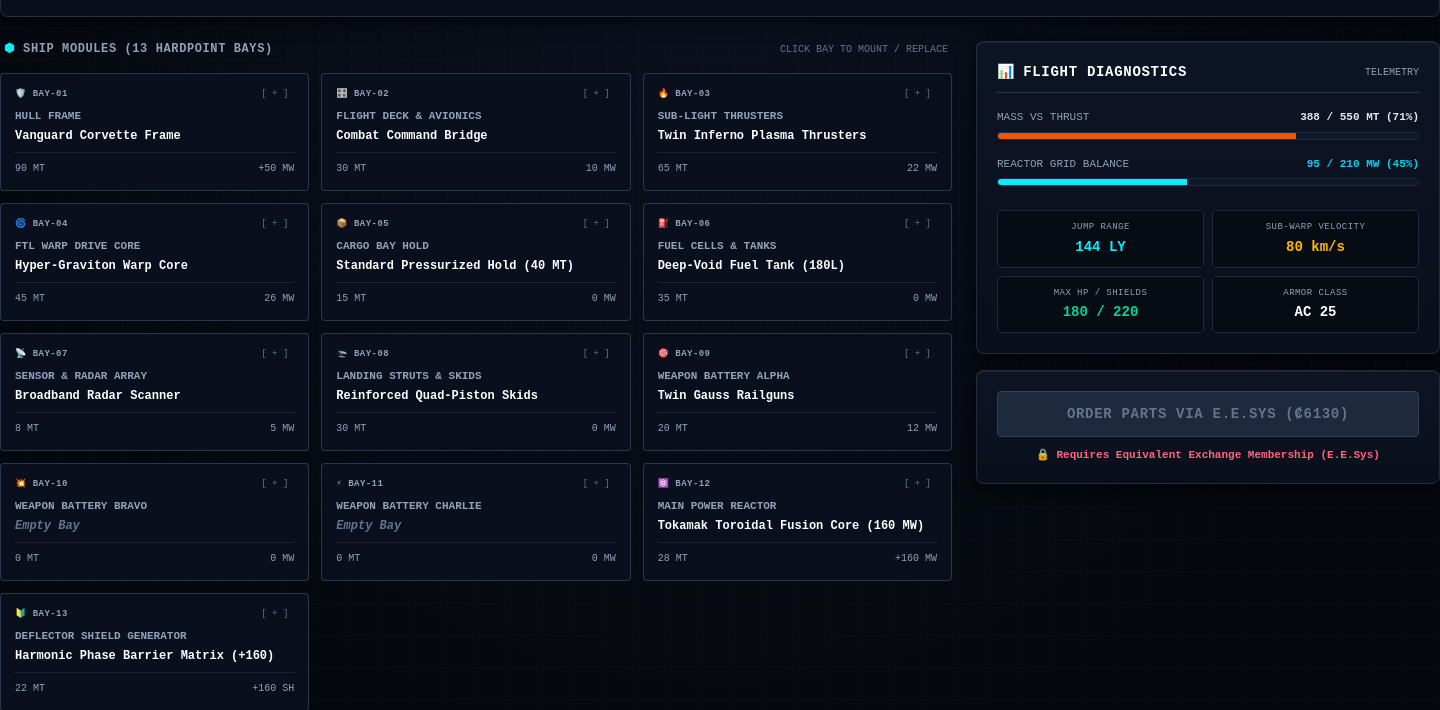
ShipBuilder Component (Cyberpunk x The Expanse Drydock UI) › renders reactor and shield generator bays and allows unmounting optional components
Check: the text "BAY-12" is shown, box [675,478,710,492]
Check: the text "Main Power Reactor" is shown, box [658,500,776,512]
// Open BAY-13 (Shield Generator)
Click the button "BAY-13": [155, 652] box [0,593,309,709]
(page scrolled)
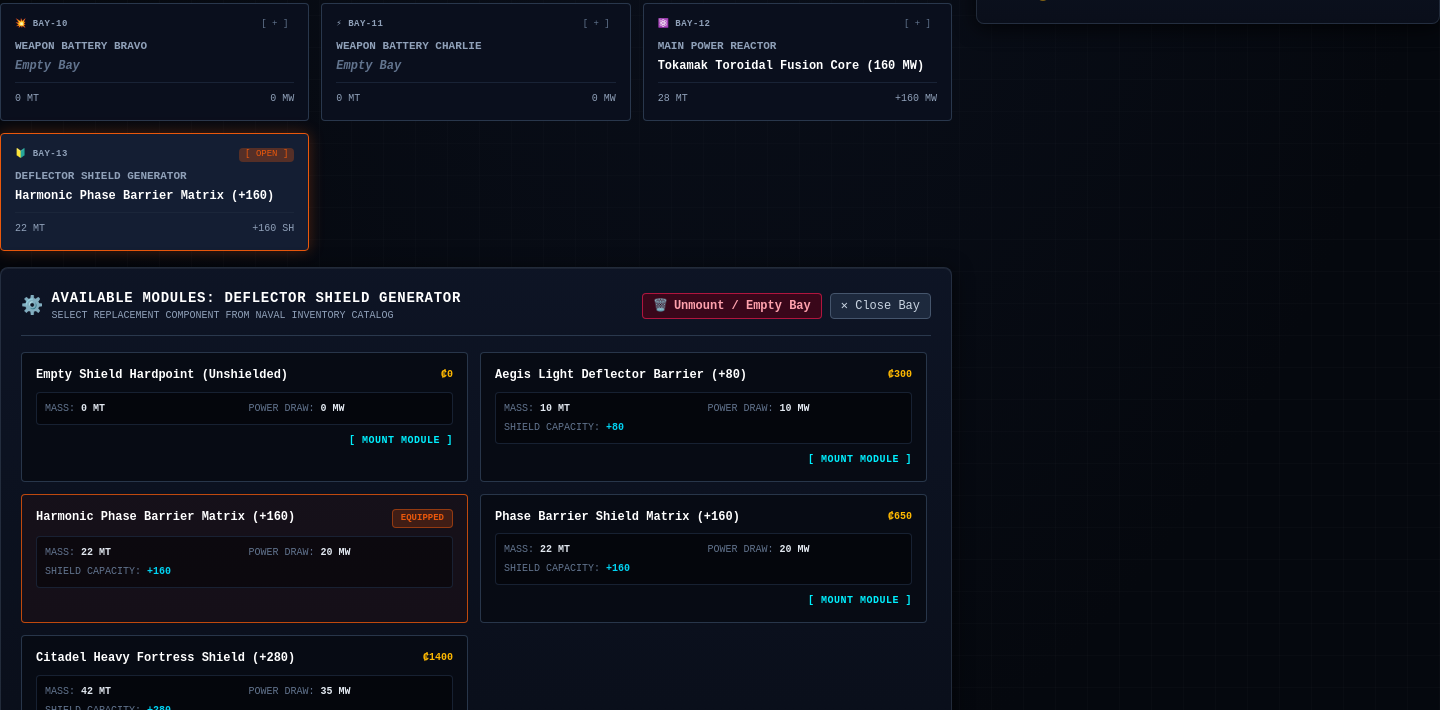
Check: the button "🗑️ Unmount / Empty Bay" is shown
// Click Unmount
Click the button "🗑️ Unmount / Empty Bay": [732, 306] box [642,292,822,318]
(page scrolled)
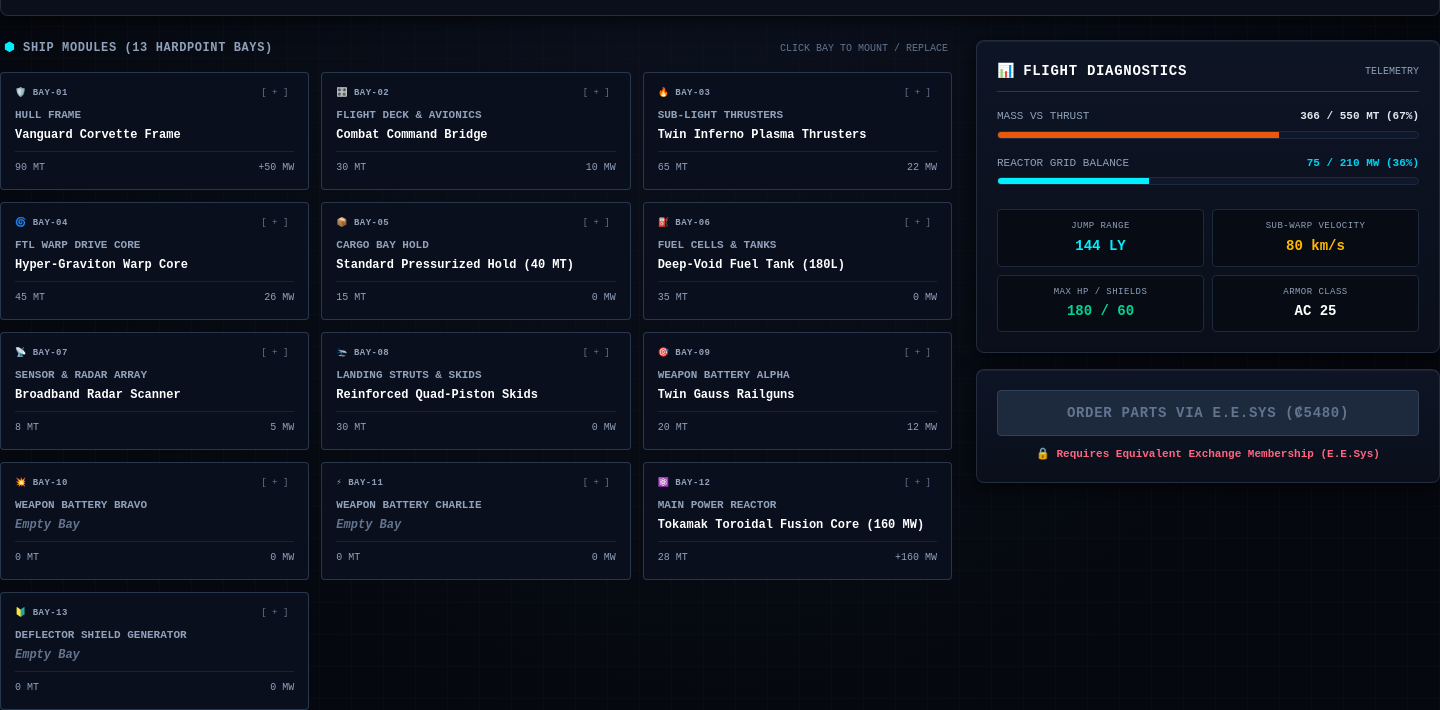
Check: the button "BAY-13" shows "Empty Bay", box [0,592,309,709]
